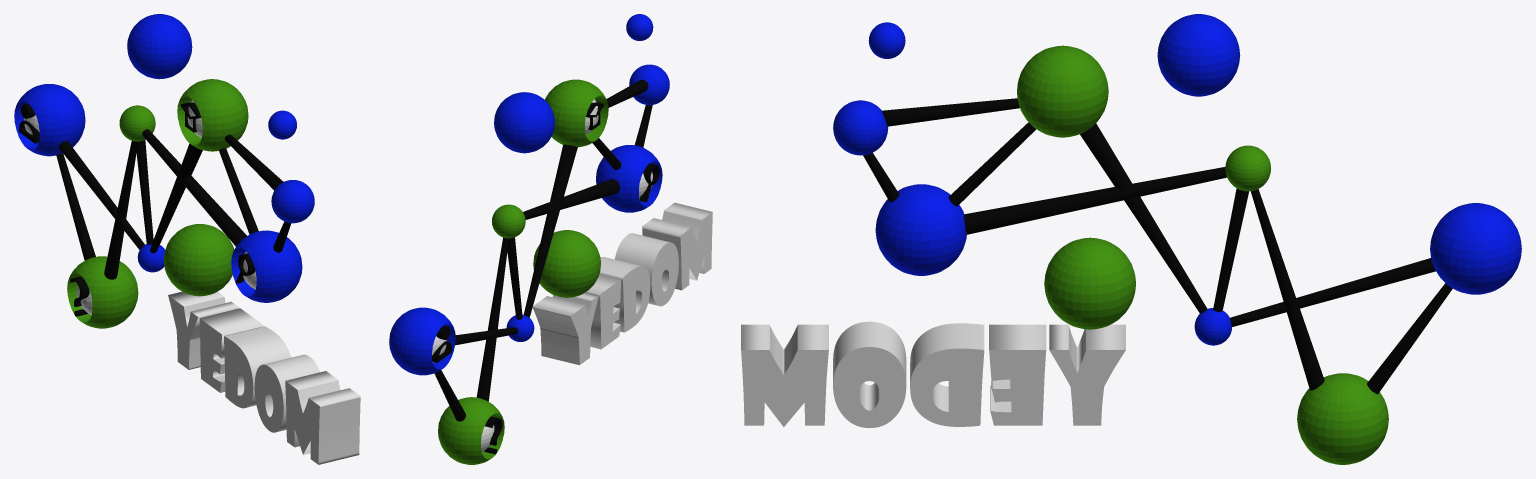
File: yedom.gltf
3 views of the same model, side by side, from view 1: azimuth 30°, elevation 25°; view 2: azimuth 150°, elevation 25°; view 3: azimuth 270°, elevation 25° (orthographic). The views are drawn at different scales.
Visible parts, largest first — view 1: Text_27, Sphere.011_28, Sphere.001_14, Sphere.009_13, Sphere.004_16, Sphere.012_29, Sphere.008_18, Cylinder.003_2, Sphere.006_11, Cylinder.008_9, Cylinder.004_3, Cylinder.001_0 (+7 smaller); view 2: Text_27, Sphere.011_28, Sphere.004_16, Sphere.012_29, Sphere.001_14, Sphere.008_18, Sphere.009_13, Cylinder.004_3, Cylinder.008_9, Cylinder.003_2, Sphere.006_11, Sphere_5 (+9 smaller); view 3: Text_27, Sphere.001_14, Sphere.011_28, Sphere.004_16, Sphere.009_13, Sphere.008_18, Sphere.012_29, Cylinder.003_2, Cylinder.004_3, Cylinder.008_9, Cylinder.001_0, Sphere.006_11 (+7 smaller).
Part boxes in pixels (x1,y1,x2,y2): Text_27: (168,291,360,464); Sphere.011_28: (163,224,234,296); Sphere.001_14: (177,79,248,151); Sphere.009_13: (231,230,302,302); Sphere.004_16: (14,84,85,156); Sphere.012_29: (127,14,192,79); Sphere.008_18: (67,256,138,328); Cylinder.003_2: (142,129,246,246); Sphere.006_11: (271,180,314,223); Cylinder.008_9: (104,141,136,279); Cylinder.004_3: (150,143,202,253); Cylinder.001_0: (59,141,144,249); Text_27: (532,202,712,365); Sphere.011_28: (533,230,600,297); Sphere.004_16: (389,307,455,375); Sphere.012_29: (494,92,554,153); Sphere.001_14: (545,79,608,147); Sphere.008_18: (438,397,504,464); Sphere.009_13: (596,145,662,212); Cylinder.004_3: (523,144,577,317); Cylinder.008_9: (476,237,508,401); Cylinder.003_2: (523,179,619,219); Sphere.006_11: (629,64,669,105); Sphere_5: (492,204,525,238); Text_27: (741,321,1125,427); Sphere.001_14: (1017,45,1108,137); Sphere.011_28: (1044,237,1135,329); Sphere.004_16: (1430,203,1521,294); Sphere.009_13: (875,184,966,275); Sphere.008_18: (1297,373,1388,464); Sphere.012_29: (1157,14,1240,96); Cylinder.003_2: (964,167,1226,234); Cylinder.004_3: (1080,123,1207,313); Cylinder.008_9: (1251,189,1324,390); Cylinder.001_0: (1230,258,1435,326); Sphere.006_11: (833,100,888,155).
Bounding box in the file's own units: 2.06 × 10.64 × 16.99.
